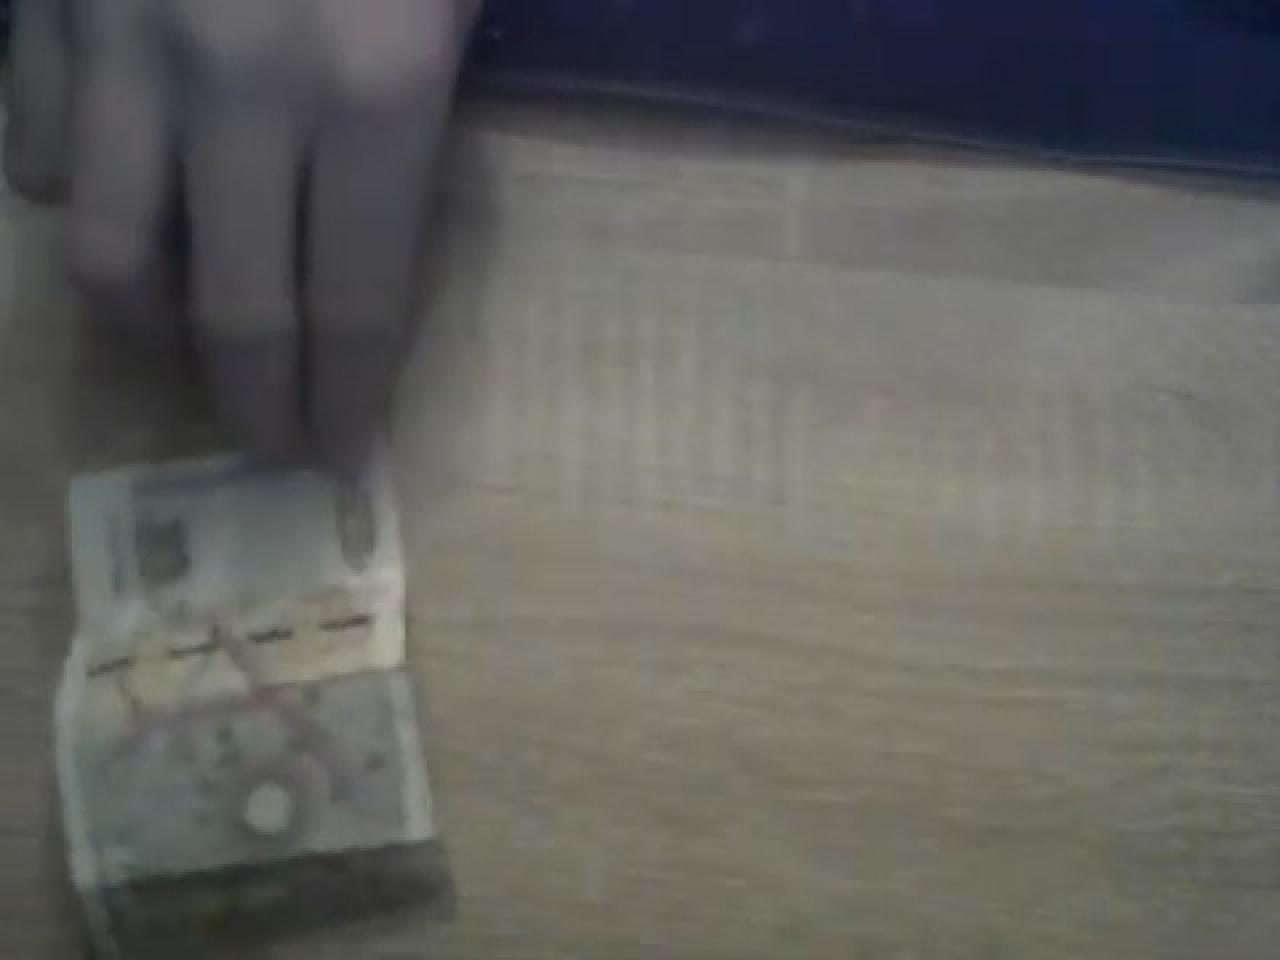10leva: (50, 315, 454, 960)
